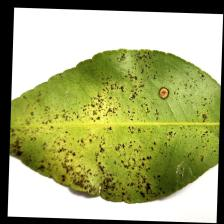canker: (38, 92, 138, 182)
